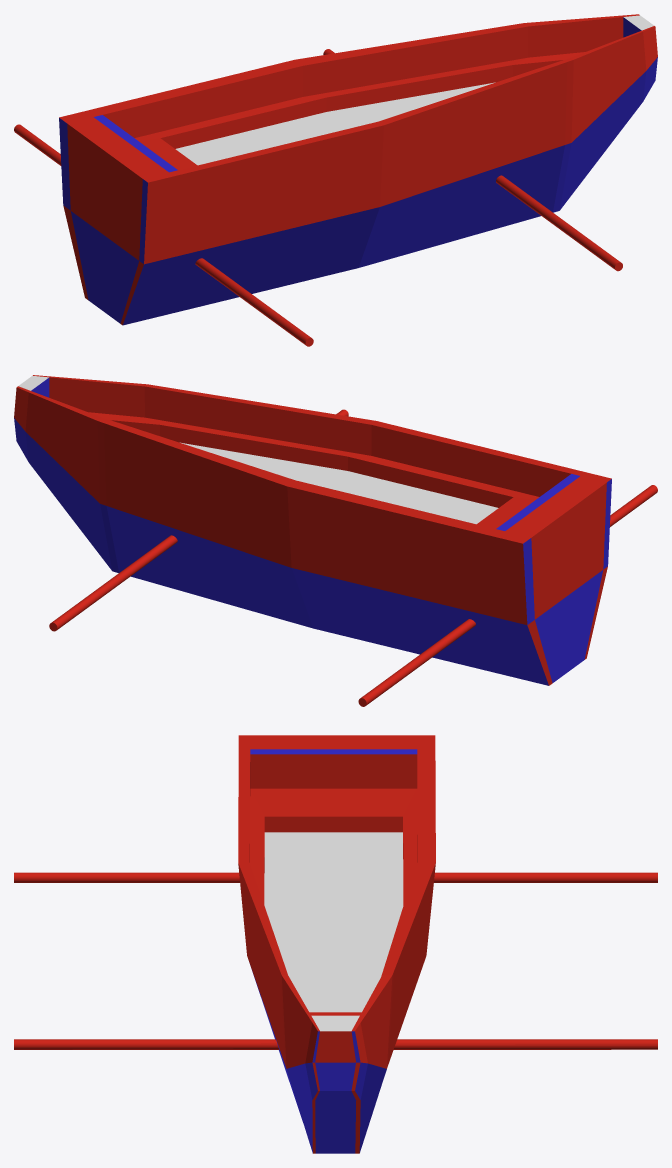
Rendered from row boat.fbx.
The picture shows the model from 3 angles, top to bottom: view 1: azimuth 30°, elevation 25°; view 2: azimuth 150°, elevation 25°; view 3: azimuth 270°, elevation 25°; orthographic projection. The views are drawn at different scales.
Visible parts, largest first — view 1: Cube; view 2: Cube; view 3: Cube.
Part boxes in pixels (x1,y1,x2,y2): Cube: [14, 14, 657, 346]; Cube: [14, 375, 657, 706]; Cube: [14, 735, 657, 1153].
Bounding box in the file's own units: 705 × 200 × 655.
